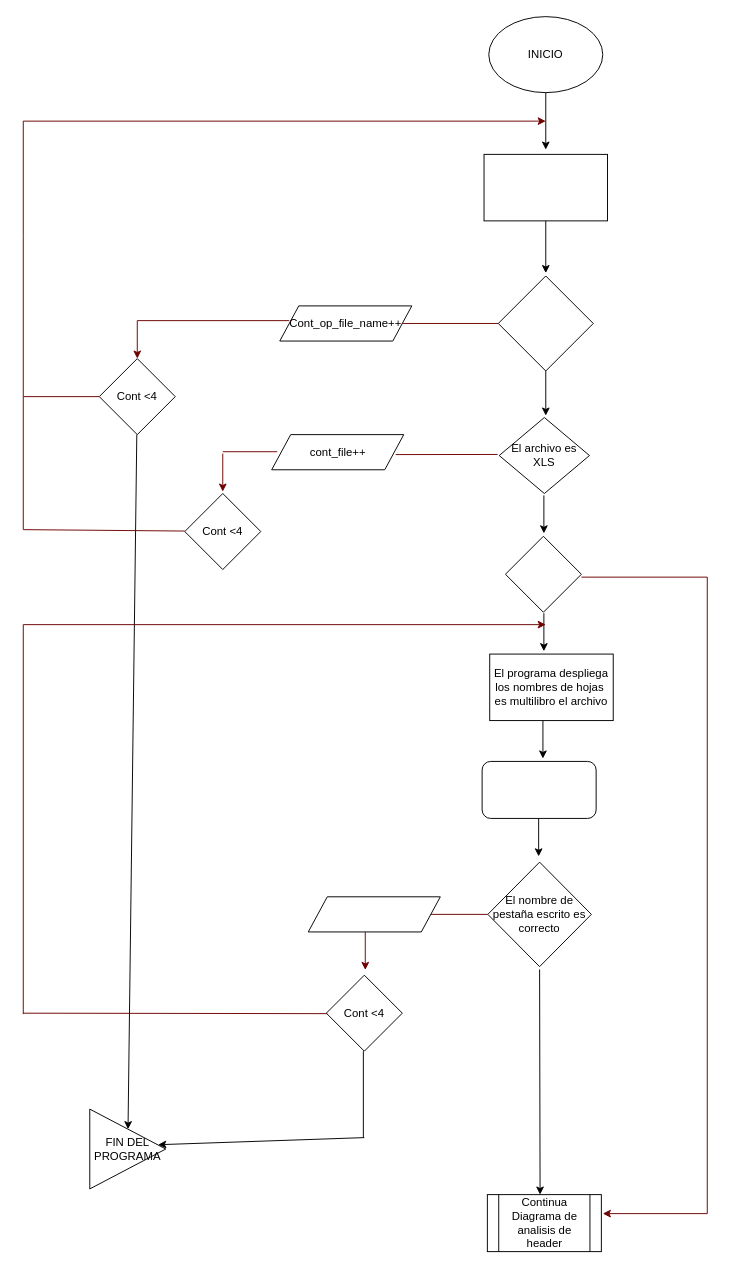
Image size: 732x1268. Some labels were removed from this diagram. The shapes that lost their labels are listed below. From the top down, each one's centre as x and y in pixels, then its label:
[545,187]: El programa solicita que se ingrese el nombre del archivo
[545,323]: El usuario proporciono el nombre del archivo
[542,573]: El archivo es multilibro
[538,789]: El usuario escribe el nombre de la pestaña
[373,914]: cont_opciones++
